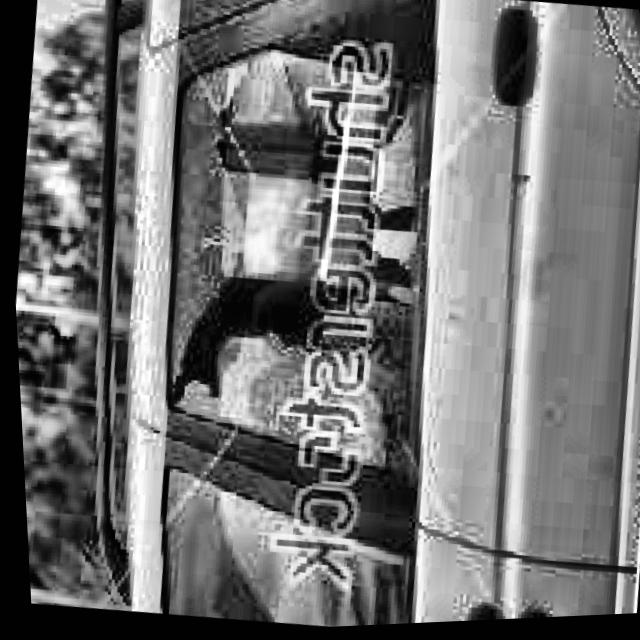glass_shatter: (154, 65, 438, 425)
